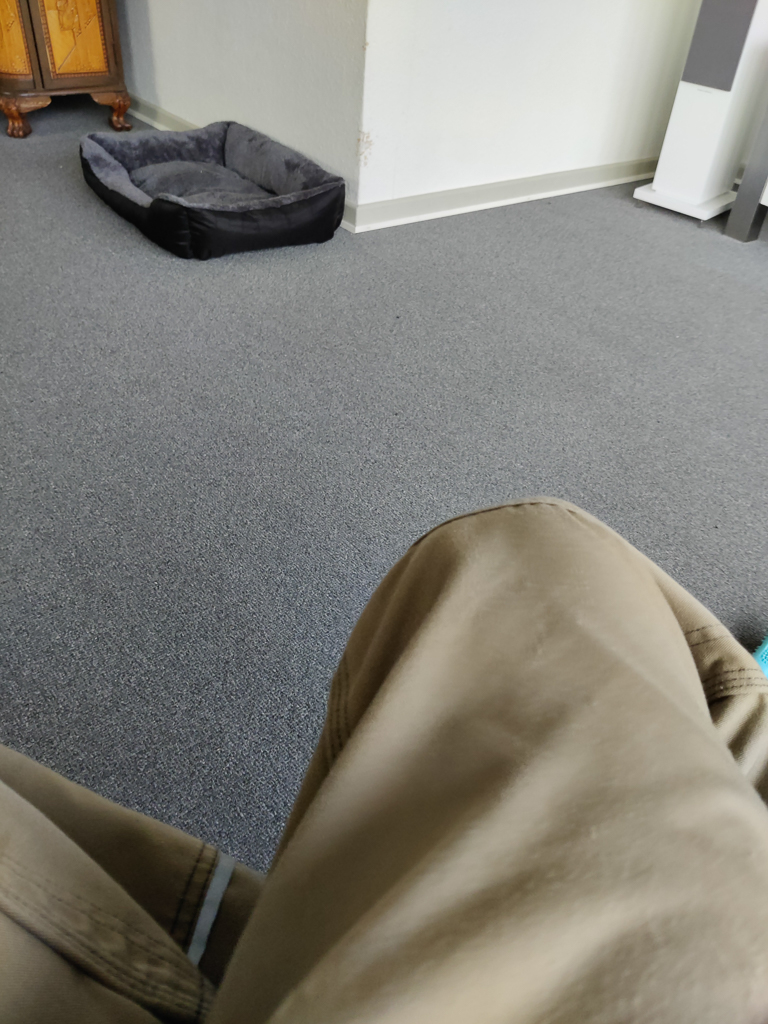Humanoid: (0, 473, 768, 1024)
